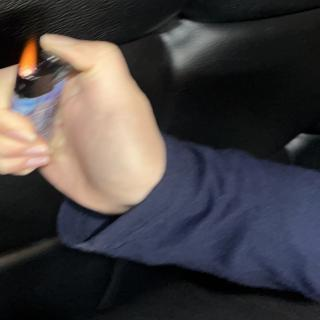fire: (18, 40, 42, 78)
